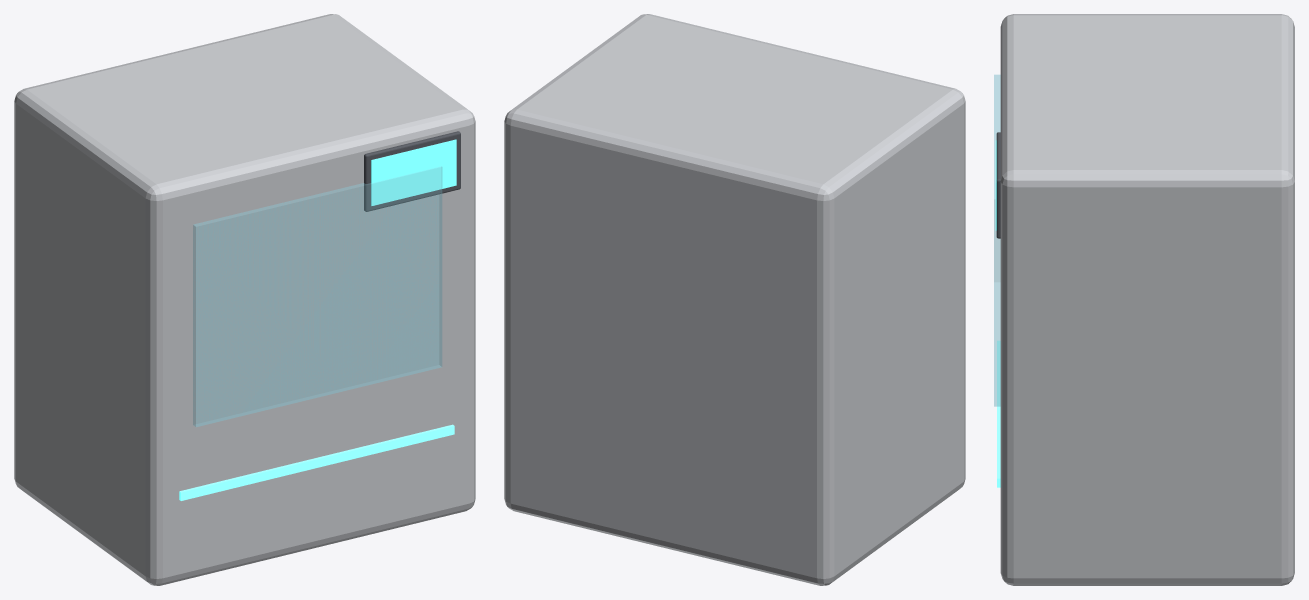
File: engineering_station_fabricator.glb
The picture shows the model from 3 angles, left to right: view 1: azimuth 30°, elevation 25°; view 2: azimuth 150°, elevation 25°; view 3: azimuth 270°, elevation 25°; orthographic projection. The views are drawn at different scales.
Visible parts, largest first — view 1: GD_engineering_station_fabricator__m0, GD_engineering_station_fabricator__m1, GD_engineering_station_fabricator__m6, GD_engineering_station_fabricator__m4, GD_engineering_station_fabricator__m5; view 2: GD_engineering_station_fabricator__m0; view 3: GD_engineering_station_fabricator__m0, GD_engineering_station_fabricator__m1, GD_engineering_station_fabricator__m4, GD_engineering_station_fabricator__m5.
Part boxes in pixels (bbox=[...]): GD_engineering_station_fabricator__m0: bbox=[14, 14, 475, 585]; GD_engineering_station_fabricator__m1: bbox=[193, 166, 442, 426]; GD_engineering_station_fabricator__m6: bbox=[371, 139, 456, 205]; GD_engineering_station_fabricator__m4: bbox=[179, 424, 454, 500]; GD_engineering_station_fabricator__m5: bbox=[364, 131, 460, 211]; GD_engineering_station_fabricator__m0: bbox=[504, 14, 965, 585]; GD_engineering_station_fabricator__m0: bbox=[1000, 14, 1294, 585]; GD_engineering_station_fabricator__m1: bbox=[994, 74, 1000, 406]; GD_engineering_station_fabricator__m4: bbox=[997, 340, 1000, 487]; GD_engineering_station_fabricator__m5: bbox=[996, 132, 1000, 238].
Bounding box in the file's own units: 1.2 × 1.4 × 0.92.
